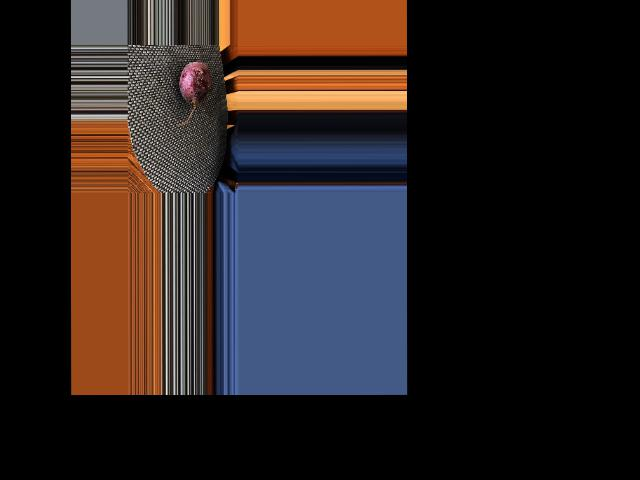beet: (175, 61, 211, 126)
